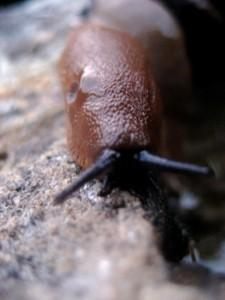slug: (41, 9, 218, 245)
